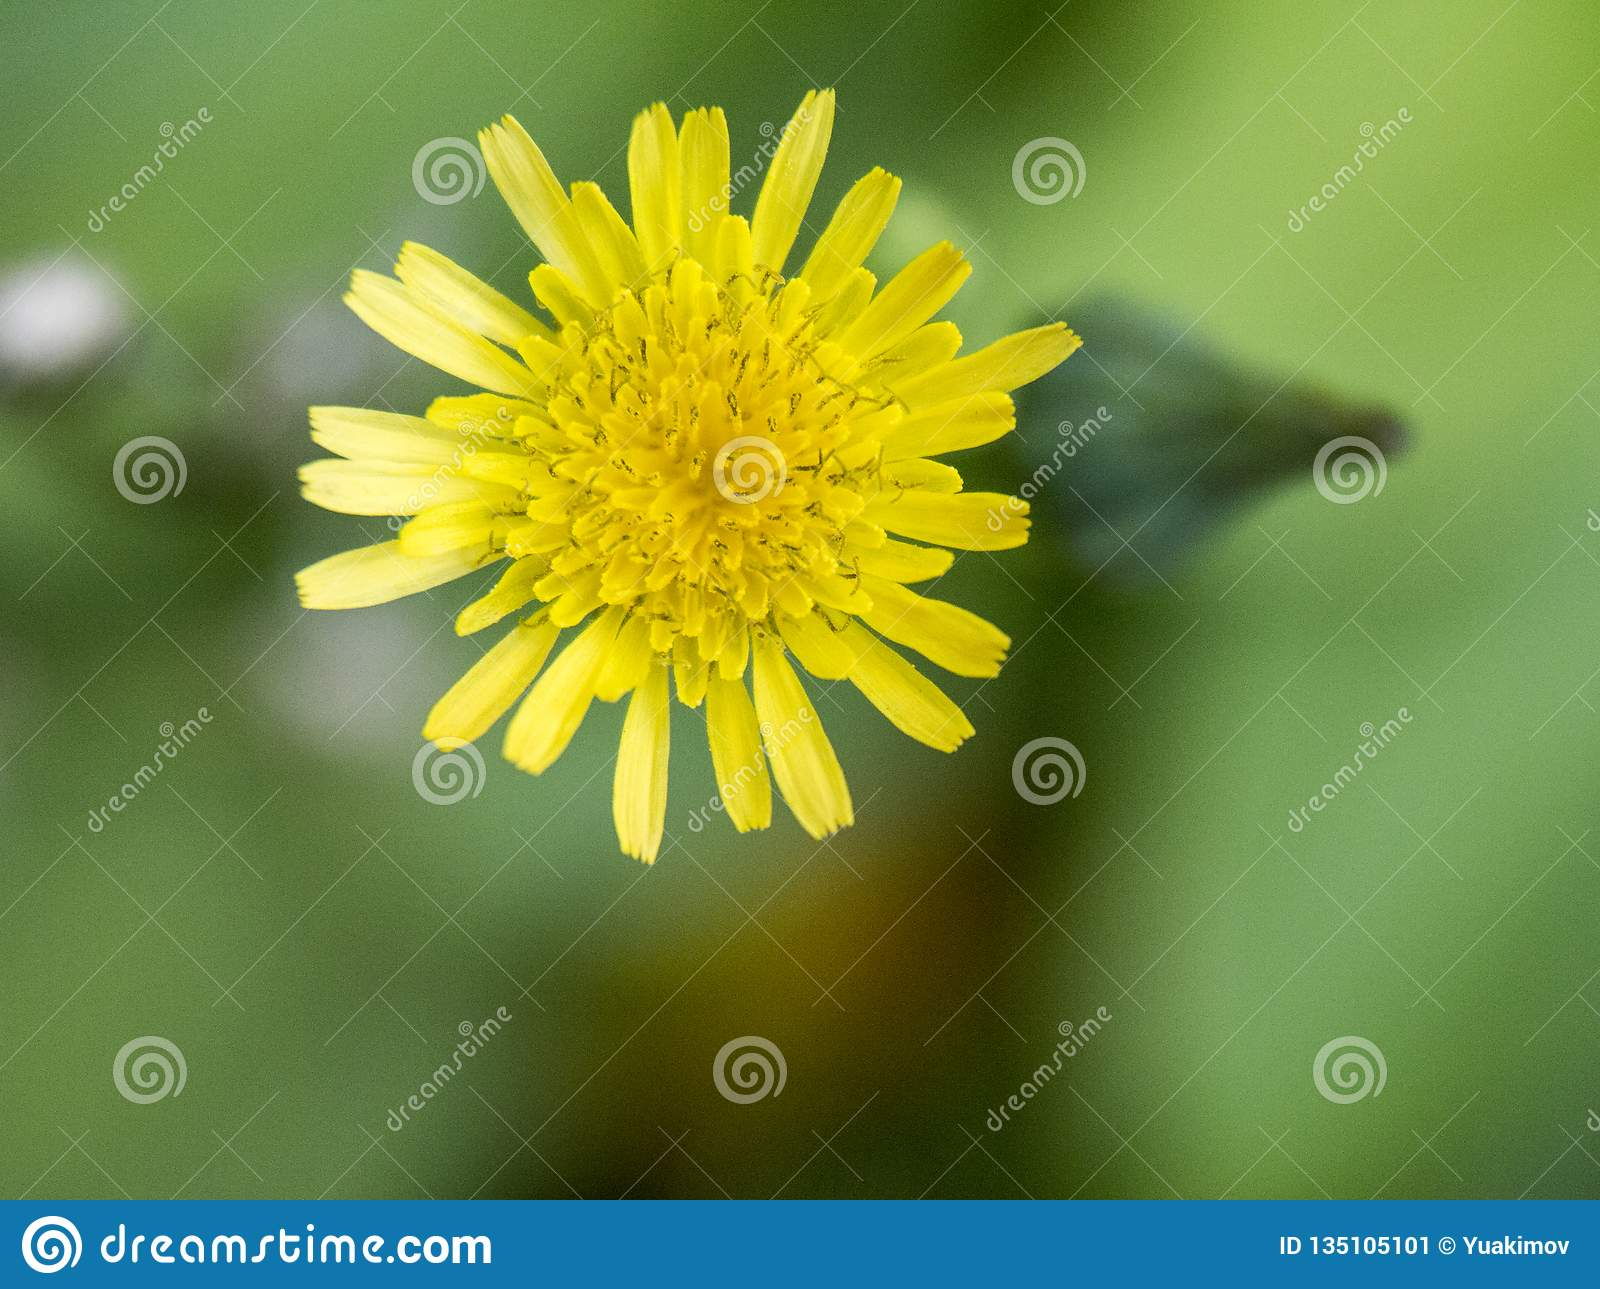dandelion: (376, 213, 1016, 737)
